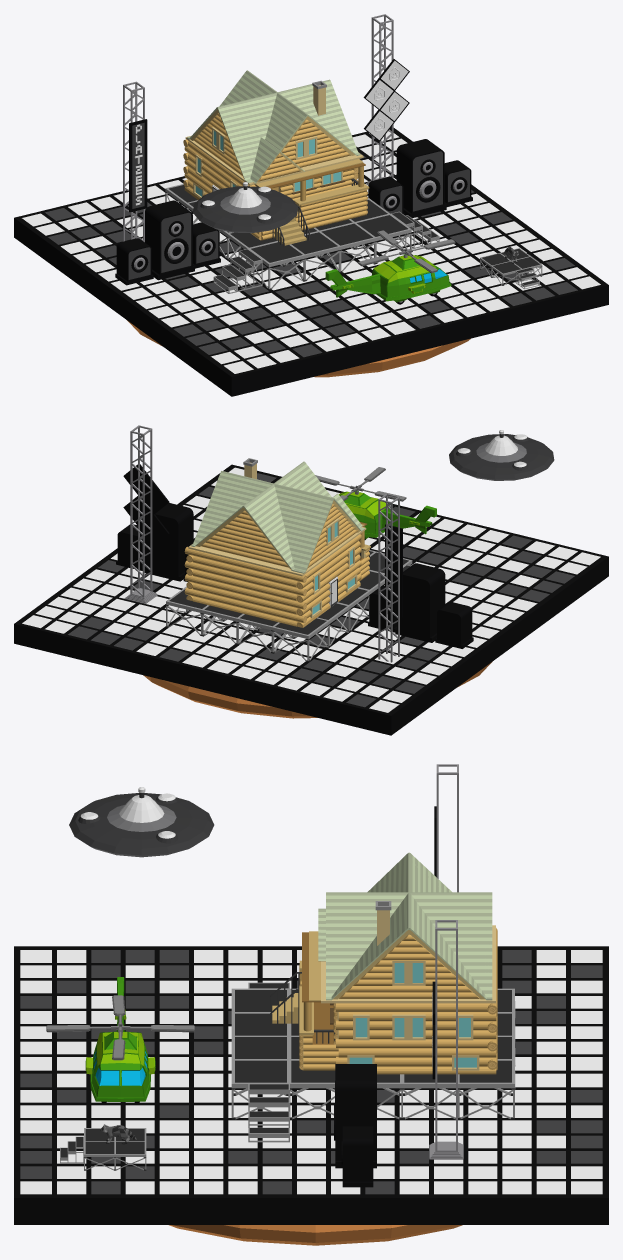
3 renders of one model, top to bottom at view 1: azimuth 30°, elevation 25°; view 2: azimuth 150°, elevation 25°; view 3: azimuth 270°, elevation 25°, orthographic. The views are drawn at different scales.
Visible parts, largest first — view 1: Cube.008, Cube.1516, VEHICLES_HELICOPTER, OBJRANDOM_UFO, UNDERGROUND_PIZZA; view 2: Cube.008, Cube.1516, OBJRANDOM_UFO, VEHICLES_HELICOPTER, UNDERGROUND_PIZZA; view 3: Cube.008, Cube.1516, OBJRANDOM_UFO, VEHICLES_HELICOPTER, UNDERGROUND_PIZZA.
Boxes of the visible parts, x1=… form: Cube.008: x1=14, y1=14, x2=608, y2=396; Cube.1516: x1=183, y1=70, x2=369, y2=246; VEHICLES_HELICOPTER: x1=325, y1=230, x2=455, y2=304; OBJRANDOM_UFO: x1=193, y1=182, x2=298, y2=233; UNDERGROUND_PIZZA: x1=127, y1=320, x2=470, y2=377; Cube.008: x1=14, y1=425, x2=608, y2=735; Cube.1516: x1=184, y1=458, x2=370, y2=627; OBJRANDOM_UFO: x1=449, y1=430, x2=554, y2=480; VEHICLES_HELICOPTER: x1=315, y1=467, x2=436, y2=539; UNDERGROUND_PIZZA: x1=143, y1=661, x2=492, y2=718; Cube.008: x1=14, y1=764, x2=608, y2=1224; Cube.1516: x1=270, y1=852, x2=497, y2=1074; OBJRANDOM_UFO: x1=69, y1=787, x2=214, y2=857; VEHICLES_HELICOPTER: x1=46, y1=977, x2=194, y2=1103; UNDERGROUND_PIZZA: x1=169, y1=1225, x2=462, y2=1245.
Size of the model in its own units: 4000 by 2184 by 4000.
Materials: 44 (2 with a texture image).
